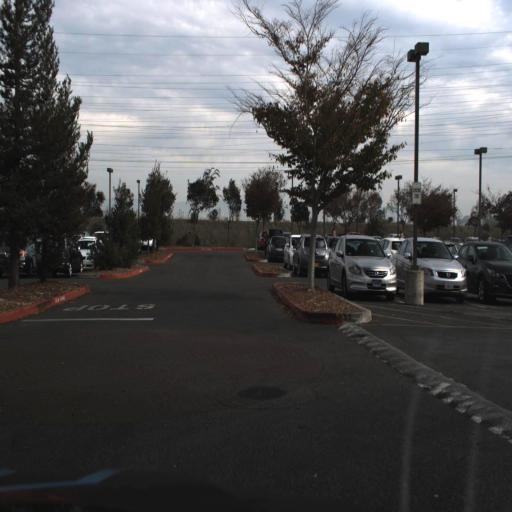car: (326, 232, 395, 300), (396, 236, 468, 300), (464, 240, 511, 306), (40, 233, 80, 276), (292, 234, 326, 276), (3, 235, 33, 278), (81, 237, 97, 275), (266, 234, 285, 264), (282, 233, 296, 269)
